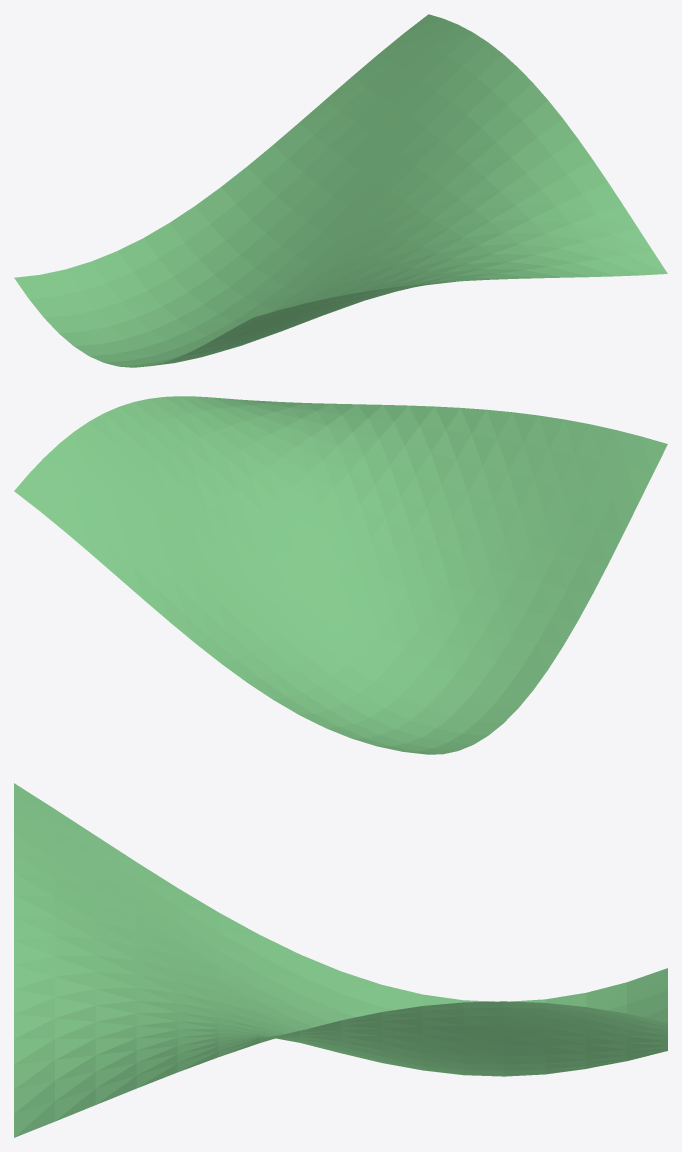
The picture shows the model from 3 angles, top to bottom: view 1: azimuth 30°, elevation 25°; view 2: azimuth 150°, elevation 25°; view 3: azimuth 270°, elevation 25°; orthographic projection. The views are drawn at different scales.
Bounding box in the file's own units: 10 × 4.79 × 10.
